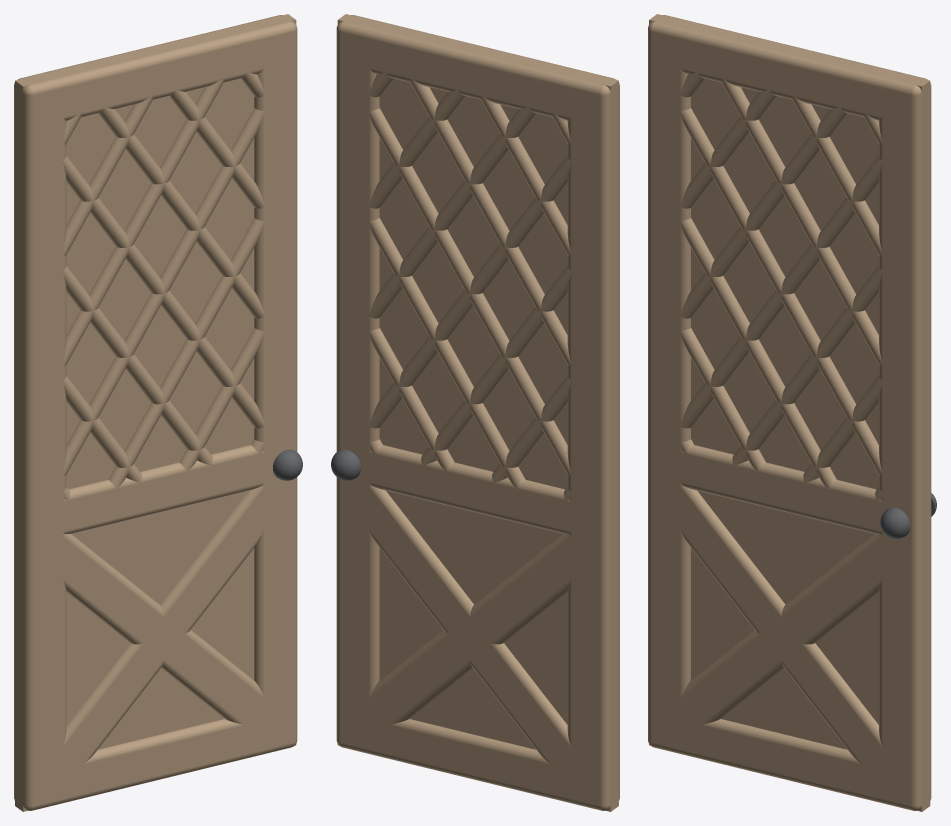
File: door.glb
The picture shows the model from 3 angles, left to right: view 1: azimuth 30°, elevation 25°; view 2: azimuth 150°, elevation 25°; view 3: azimuth 330°, elevation 25°; orthographic projection.
Parts seen in each view (by area): view 1: Mesh_Mesh_head_geo.001_lambert2SG.001; view 2: Mesh_Mesh_head_geo.001_lambert2SG.001; view 3: Mesh_Mesh_head_geo.001_lambert2SG.001.
Part boxes in pixels (bbox=[...]): Mesh_Mesh_head_geo.001_lambert2SG.001: bbox=[14, 14, 302, 811]; Mesh_Mesh_head_geo.001_lambert2SG.001: bbox=[331, 14, 619, 811]; Mesh_Mesh_head_geo.001_lambert2SG.001: bbox=[648, 14, 936, 811].
Size of the model in its own units: 0.0078 by 0.0198 by 0.002.
